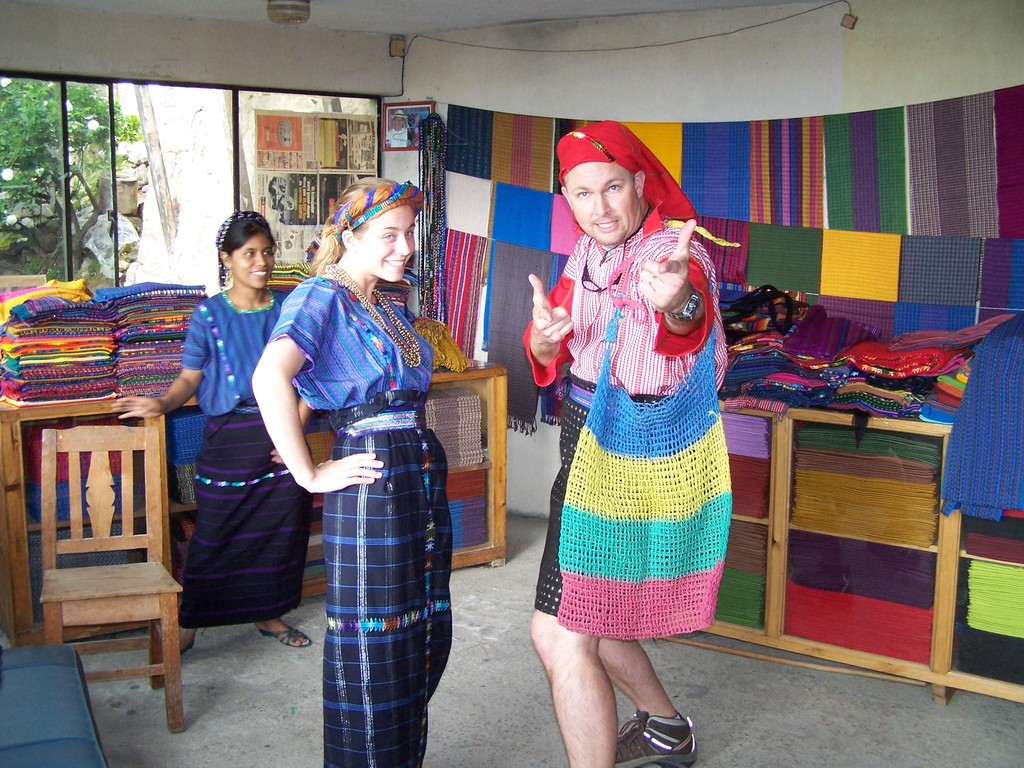Chair: (41, 424, 186, 738)
